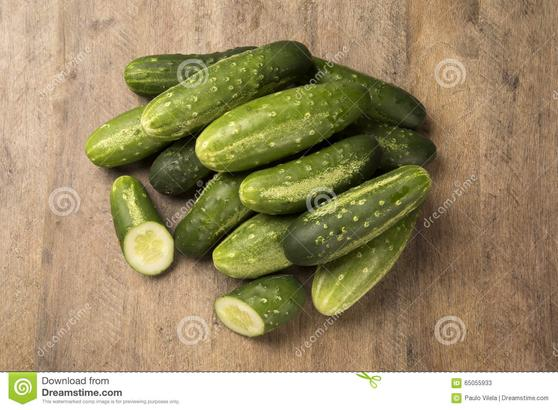cucumber: (190, 81, 376, 173)
